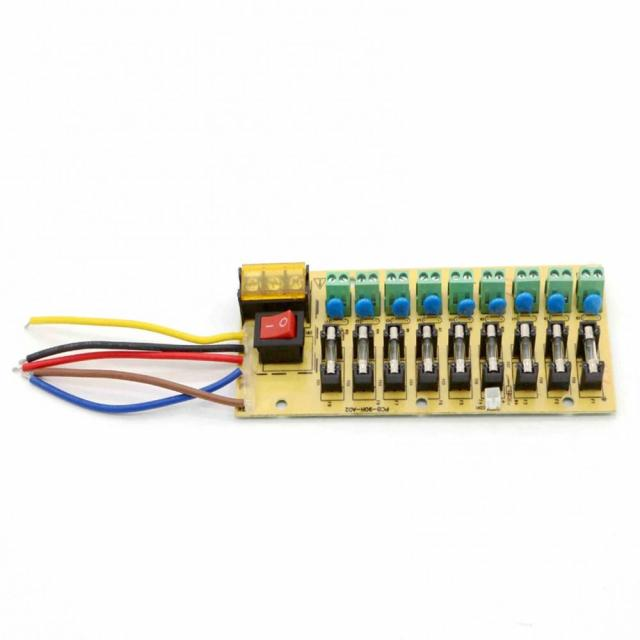2235: (255, 312, 302, 359)
connector -5v-: (447, 267, 477, 315), (513, 266, 543, 314), (547, 264, 575, 314), (383, 266, 411, 311), (480, 265, 507, 311), (579, 264, 606, 309), (416, 265, 443, 309), (323, 272, 351, 304), (356, 273, 380, 301)
fuse F1: (546, 319, 574, 392), (577, 322, 607, 388), (318, 323, 344, 387), (382, 322, 407, 387), (351, 324, 376, 383), (481, 320, 505, 378), (516, 318, 536, 382), (416, 318, 436, 379), (450, 321, 469, 379)
